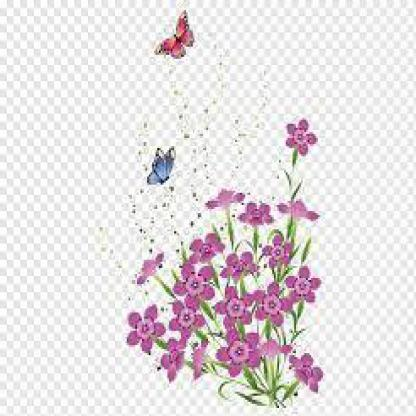Kenanga: (190, 6, 369, 388), (65, 22, 201, 386)
